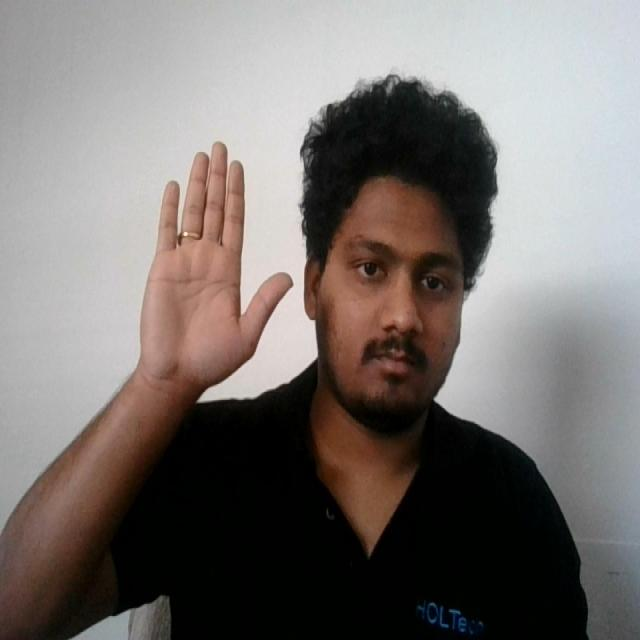Hello: (133, 134, 297, 401)
